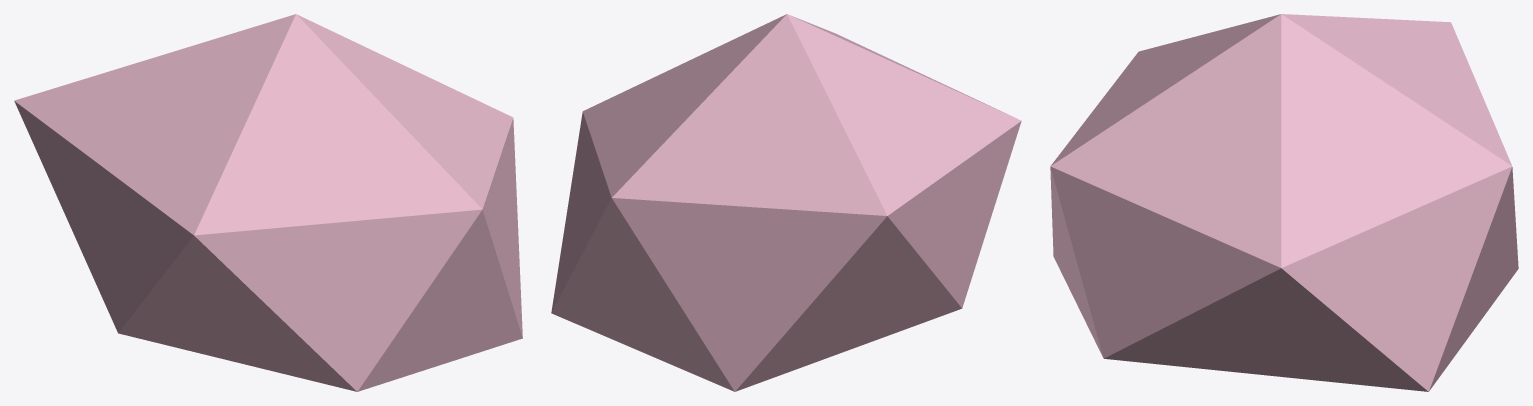
File: Bosje 1 fixed.fbx
3 renders of one model, left to right at view 1: azimuth 30°, elevation 25°; view 2: azimuth 150°, elevation 25°; view 3: azimuth 270°, elevation 25°, orthographic. The views are drawn at different scales.
Visible parts, largest first — view 1: Bosje 1; view 2: Bosje 1; view 3: Bosje 1.
Boxes of the visible parts, left/top/right/bottom form: Bosje 1: left=14, top=14, right=522, bottom=391; Bosje 1: left=551, top=14, right=1021, bottom=391; Bosje 1: left=1050, top=14, right=1518, bottom=391.
Bounding box in the file's own units: 232 × 176 × 236.
